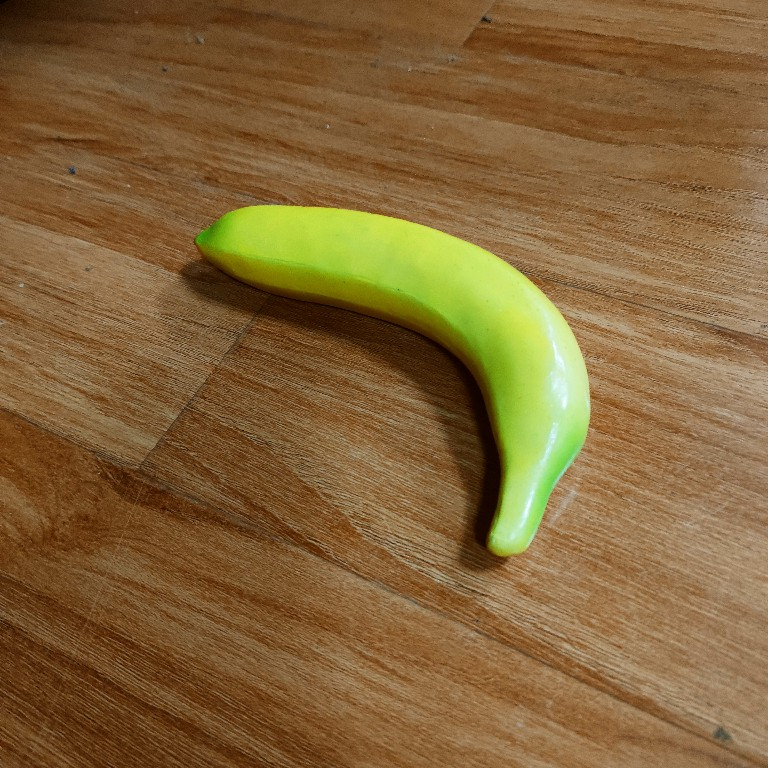fruit_banana: (189, 202, 597, 561)
